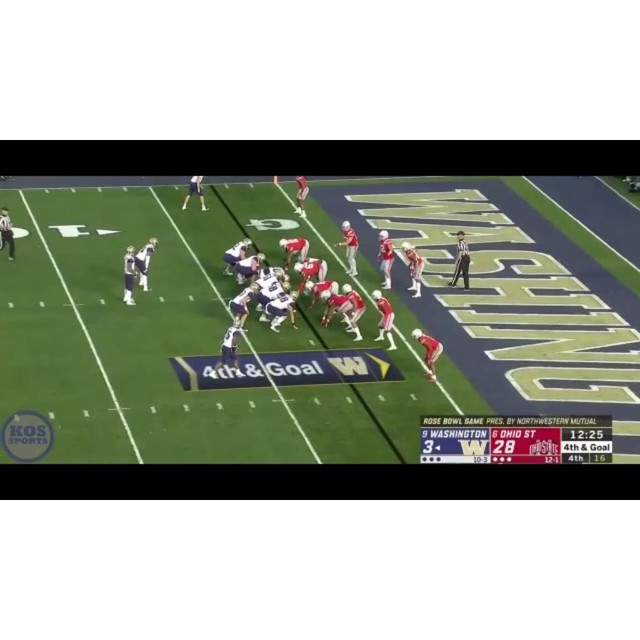american-football-player: (217, 317, 248, 374), (412, 328, 443, 383), (371, 290, 397, 350), (341, 283, 367, 342), (265, 291, 300, 333), (335, 220, 360, 276), (134, 237, 159, 292), (228, 284, 258, 329), (319, 291, 354, 329), (294, 258, 329, 295), (402, 242, 424, 297), (222, 237, 253, 276), (279, 236, 311, 271), (304, 280, 340, 311), (377, 230, 396, 288), (234, 252, 267, 285), (122, 244, 139, 305), (182, 176, 209, 211), (293, 176, 310, 218)
referee: (448, 230, 473, 291), (0, 206, 17, 262)
